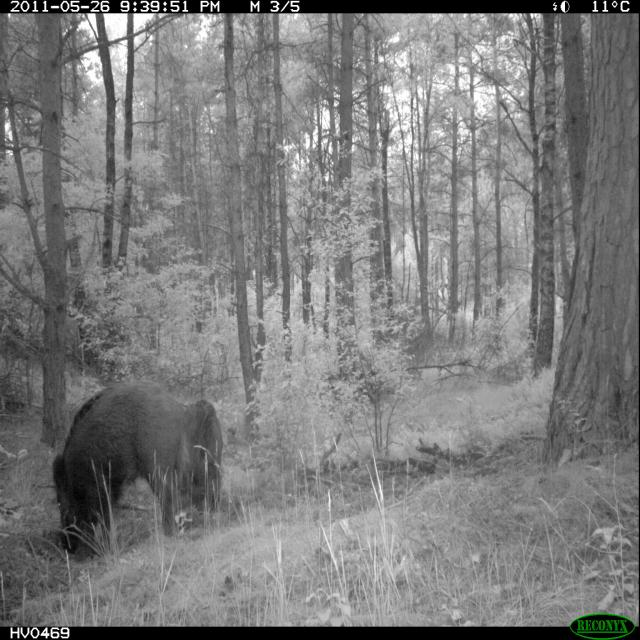boar: (38, 365, 248, 574), (168, 373, 235, 529)
